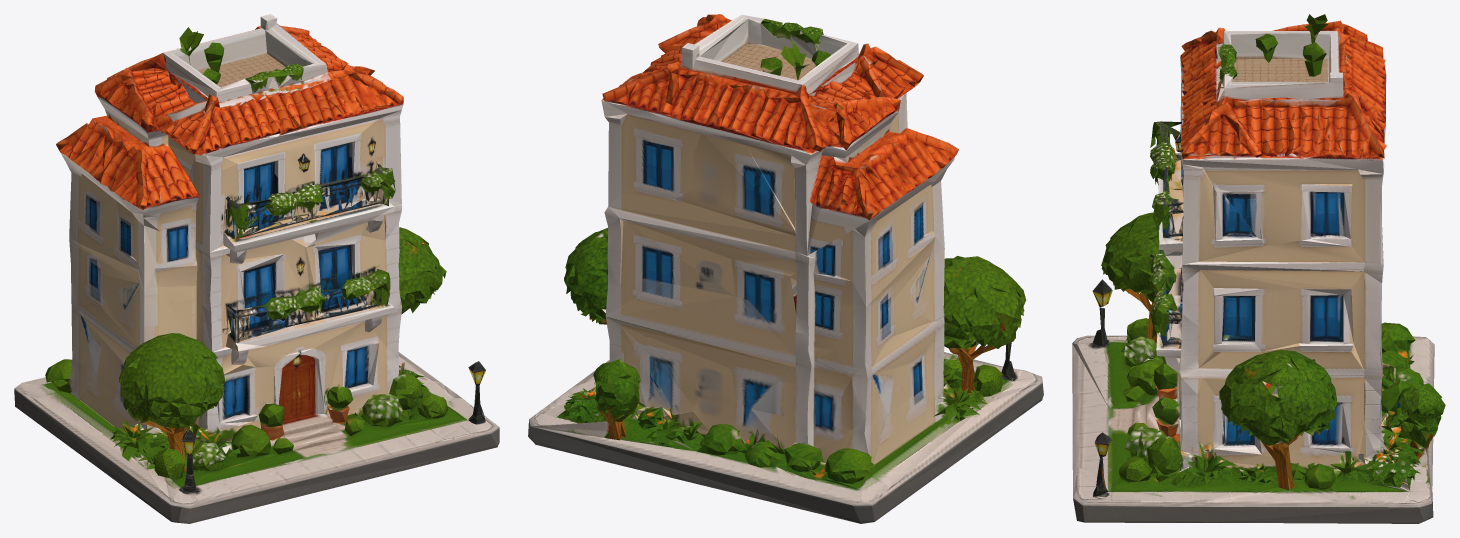
Rendered from level-3-source.glb.
3 renders of one model, left to right at view 1: azimuth 30°, elevation 25°; view 2: azimuth 150°, elevation 25°; view 3: azimuth 270°, elevation 25°, orthographic. The views are drawn at different scales.
Visible parts, largest first — view 1: Mesh_0; view 2: Mesh_0; view 3: Mesh_0.
Boxes of the visible parts, <box> form: Mesh_0: <box>14,14,499,523</box>; Mesh_0: <box>528,14,1043,523</box>; Mesh_0: <box>1072,14,1445,523</box>.
Bounding box in the file's own units: 1.88 × 1.89 × 1.55.
Materials: 1 (1 with a texture image).
